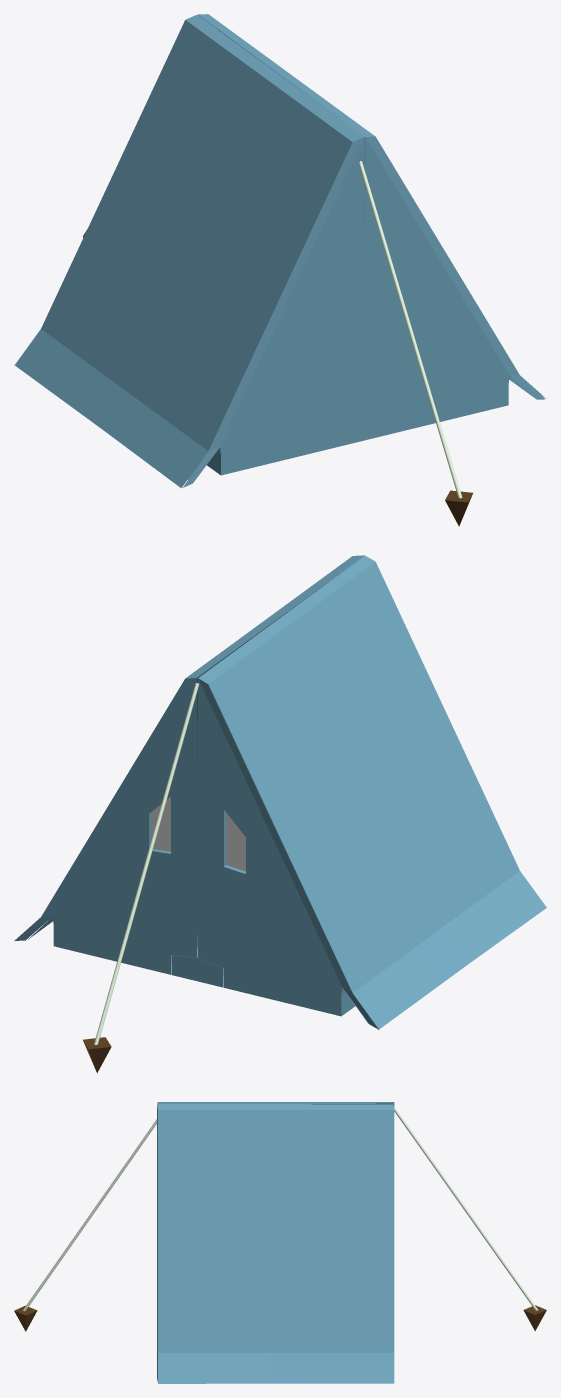
File: tente.fbx
3 renders of one model, top to bottom at view 1: azimuth 30°, elevation 25°; view 2: azimuth 150°, elevation 25°; view 3: azimuth 270°, elevation 25°, orthographic. The views are drawn at different scales.
Parts seen in each view (by area): view 1: Cube, Cylinder.001; view 2: Cube, Cylinder, Plane.001, Plane; view 3: Cube, Cylinder, Cylinder.001.
Boxes of the visible parts, <box> form: Cube: <box>14,14,546,488</box>; Cylinder.001: <box>359,161,462,498</box>; Cube: <box>14,555,546,1029</box>; Cylinder: <box>94,683,199,1044</box>; Plane.001: <box>226,813,245,871</box>; Plane: <box>151,797,170,851</box>; Cube: <box>157,1102,394,1383</box>; Cylinder: <box>394,1107,537,1310</box>; Cylinder.001: <box>22,1119,156,1311</box>.
Bounding box in the file's own units: 252 × 212 × 451.
